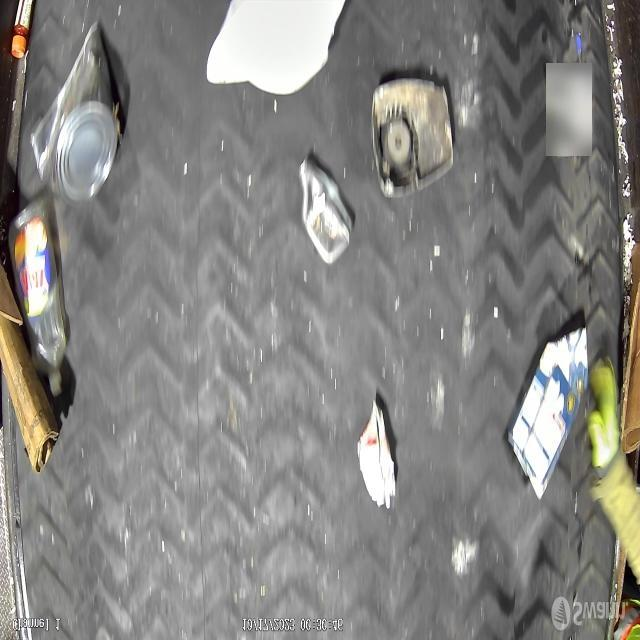milk_jug: (206, 0, 349, 97)
non_white_jug: (508, 325, 588, 501), (297, 156, 353, 264)
plastic_bottle: (8, 198, 66, 396)
